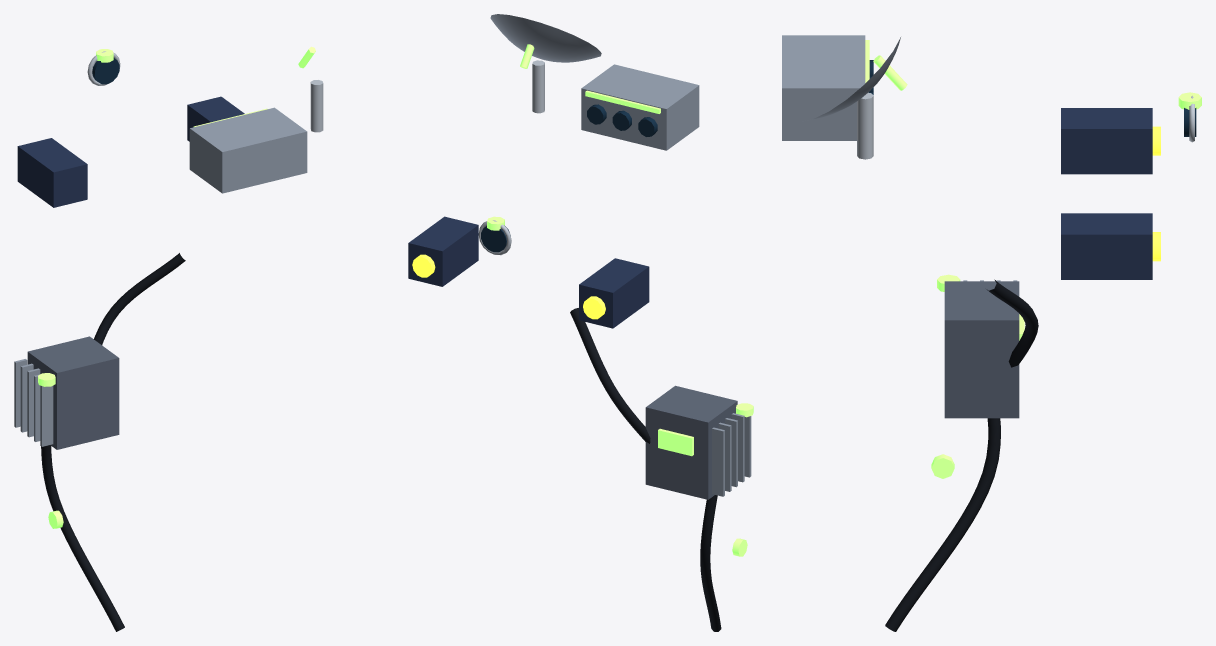
Rendered from tower_detector_analysis_s9.glb.
3 views of the same model, side by side, from view 1: azimuth 30°, elevation 25°; view 2: azimuth 150°, elevation 25°; view 3: azimuth 270°, elevation 25° (orthographic). The views are drawn at different scales.
Visible parts, largest first — view 1: detector_cluster, detector_recorder, detector_mark_projector_b, detector_recorder_fins, detector_harness_b, detector_harness_a, detector_mark_projector, detector_uplink_post, detector_analysis_lens; view 2: detector_recorder, detector_cluster, detector_mark_projector, detector_mark_projector_b, detector_uplink_dish, detector_recorder_fins, detector_harness_a, detector_harness_b, detector_recorder_face, detector_uplink_post, detector_analysis_lens, detector_cluster_bar; view 3: detector_recorder, detector_cluster, detector_mark_projector, detector_mark_projector_b, detector_harness_b, detector_harness_a, detector_uplink_post, detector_uplink_dish.
Boxes of the visible parts, left/top/right/bottom form: detector_cluster: left=189, top=107, right=307, bottom=193; detector_recorder: left=27, top=336, right=119, bottom=449; detector_mark_projector_b: left=17, top=138, right=87, bottom=207; detector_recorder_fins: left=14, top=359, right=53, bottom=446; detector_harness_b: left=41, top=445, right=124, bottom=631; detector_harness_a: left=94, top=253, right=185, bottom=344; detector_mark_projector: left=187, top=96, right=244, bottom=141; detector_uplink_post: left=310, top=80, right=323, bottom=132; detector_analysis_lens: left=92, top=58, right=119, bottom=84; detector_recorder: left=645, top=385, right=737, bottom=499; detector_cluster: left=581, top=64, right=699, bottom=150; detector_mark_projector: left=408, top=216, right=478, bottom=286; detector_mark_projector_b: left=579, top=258, right=649, bottom=328; detector_uplink_dish: left=490, top=14, right=601, bottom=62; detector_recorder_fins: left=712, top=413, right=751, bottom=496; detector_harness_a: left=570, top=308, right=650, bottom=443; detector_harness_b: left=700, top=495, right=721, bottom=631; detector_recorder_face: left=658, top=428, right=693, bottom=456; detector_uplink_post: left=532, top=60, right=544, bottom=113; detector_analysis_lens: left=481, top=226, right=510, bottom=252; detector_cluster_bar: left=585, top=90, right=660, bottom=113; detector_recorder: left=944, top=281, right=1019, bottom=418; detector_cluster: left=782, top=35, right=865, bottom=140; detector_mark_projector: left=1061, top=213, right=1152, bottom=279; detector_mark_projector_b: left=1061, top=108, right=1152, bottom=174; detector_harness_b: left=885, top=418, right=1000, bottom=631; detector_harness_a: left=986, top=279, right=1038, bottom=367; detector_uplink_post: left=857, top=92, right=873, bottom=159; detector_uplink_dish: left=808, top=37, right=900, bottom=120.
Size of the model in its own units: 1.05 by 1.92 by 1.01.
